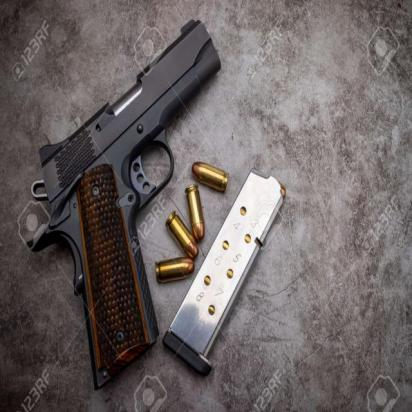Gun: (26, 0, 225, 395)
